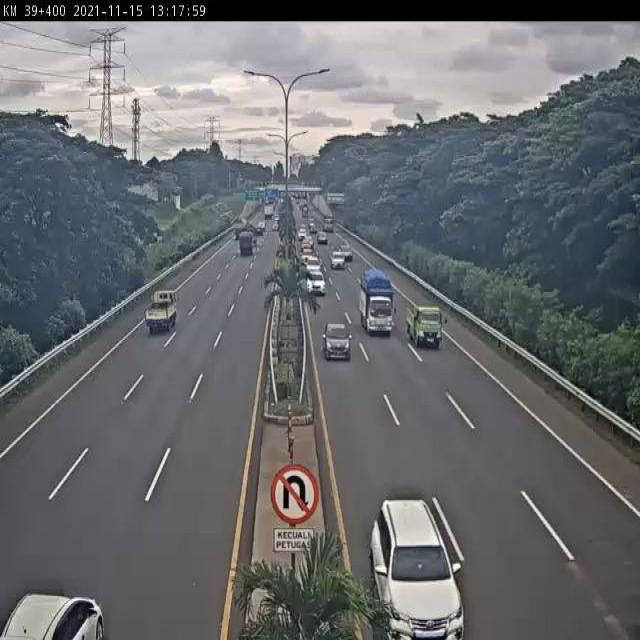car: (370, 493, 467, 640), (321, 322, 353, 362), (304, 267, 326, 296)
truck-m-: (359, 267, 395, 333)
truck-s-: (142, 286, 179, 334), (408, 301, 445, 348)
